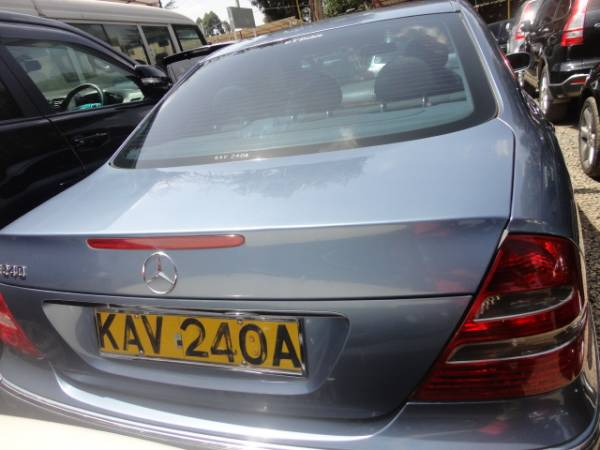licencePlate: (92, 304, 315, 376)
